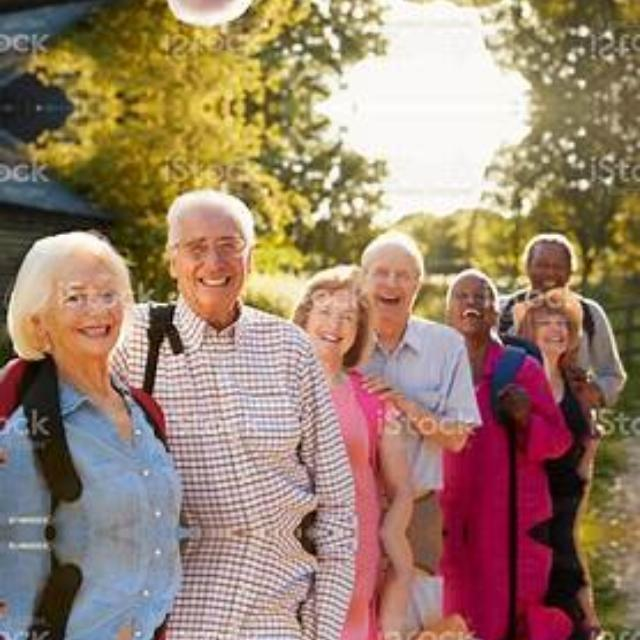person: (12, 218, 148, 480), (144, 188, 270, 368), (296, 264, 386, 414), (368, 226, 437, 364), (12, 586, 147, 640), (518, 293, 588, 393), (444, 270, 500, 368), (524, 218, 578, 290), (144, 0, 269, 25)
